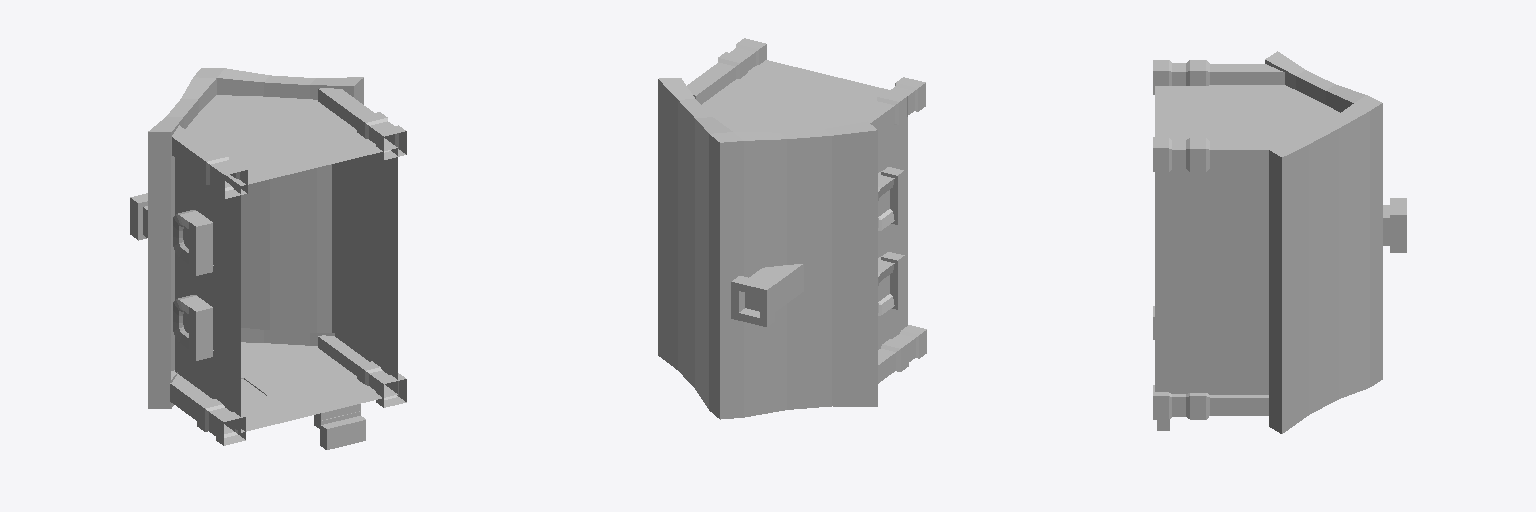
Rendered from house.obj.
The picture shows the model from 3 angles: view 1: azimuth 30°, elevation 25°; view 2: azimuth 150°, elevation 25°; view 3: azimuth 270°, elevation 25°; orthographic projection.
Visible parts, largest first — view 1: house03_Без_имени.002; view 2: house03_Без_имени.002; view 3: house03_Без_имени.002.
Boxes of the visible parts, <box> form: house03_Без_имени.002: <box>130,68,406,449</box>; house03_Без_имени.002: <box>658,38,926,419</box>; house03_Без_имени.002: <box>1153,51,1406,433</box>.
Size of the model in its own units: 1.22 by 1.62 by 1.23.